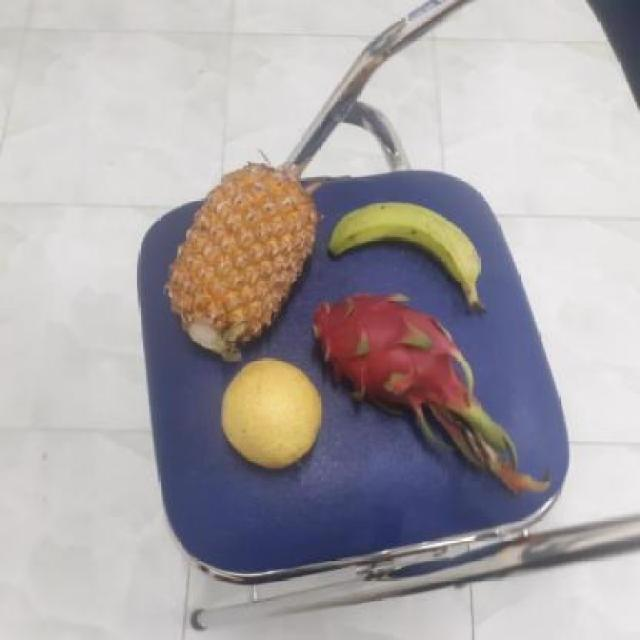banana: (323, 202, 482, 308)
dragon fruit: (302, 294, 473, 421)
pear: (216, 361, 326, 470)
pineapple: (162, 166, 316, 357)
